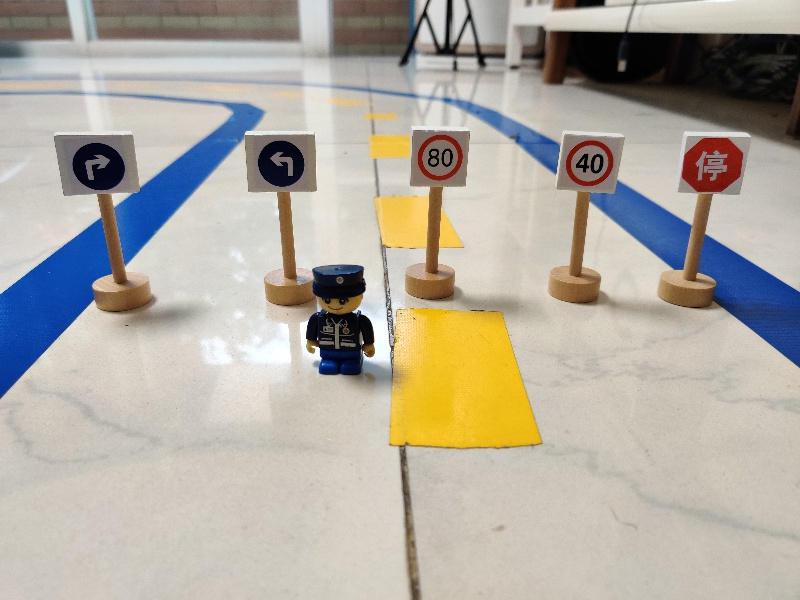limit_40: (549, 127, 625, 194)
limit_80: (408, 124, 472, 190)
person: (303, 262, 378, 377)
stop: (672, 128, 752, 198)
turn_left: (239, 129, 319, 195)
turn_right: (52, 130, 142, 197)
